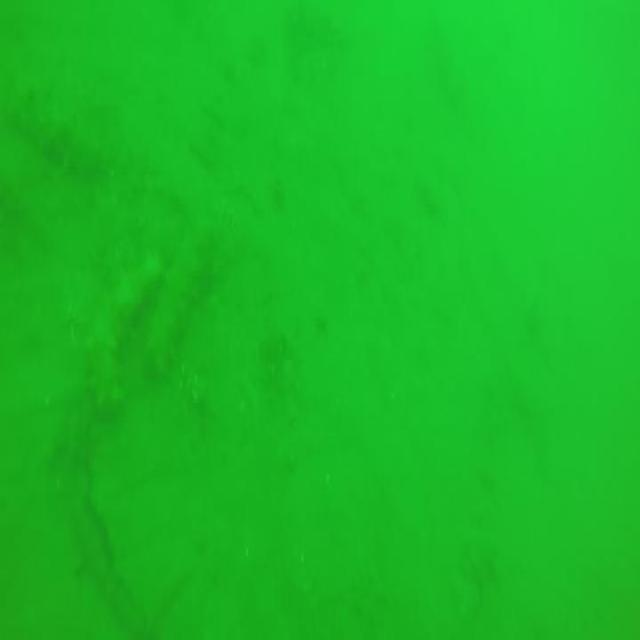holothurian: (82, 243, 162, 419), (146, 221, 221, 378), (6, 76, 96, 169)
